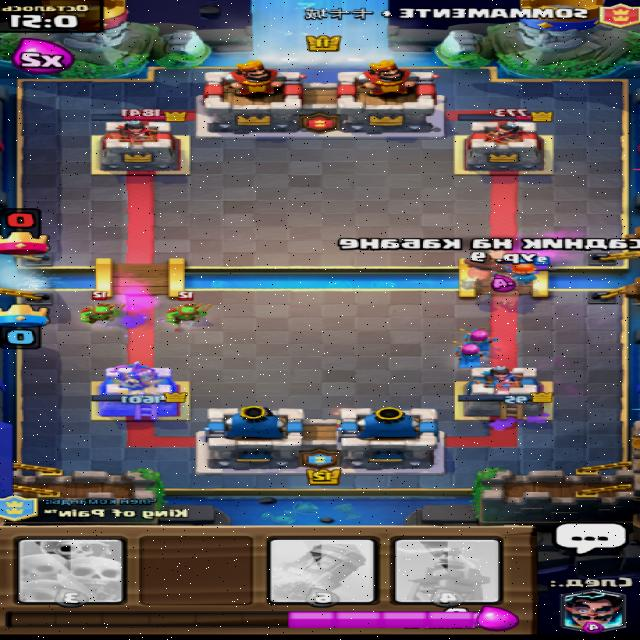Enemy-SpearGoblin: (80, 290, 130, 328), (167, 290, 213, 328)
Player-Archer: (455, 340, 492, 368), (459, 326, 502, 350)
Player-HogRider: (462, 248, 515, 282)
Player-Valkyrie: (511, 254, 552, 284)
